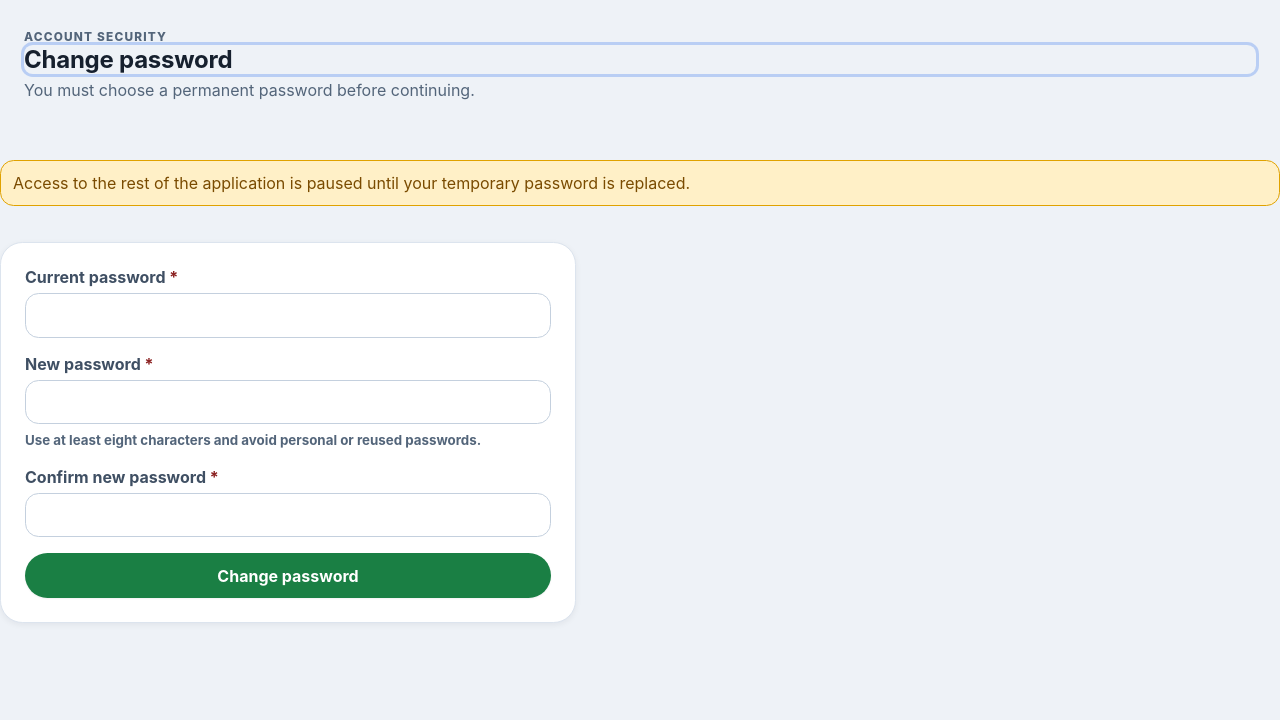
Test case: ChangePasswordPage › changes the signed-in user password and clears the mandatory state
Expected: the text "You must choose a permanent password before continuing." is shown, 24,80 -> 475,100
In the password field labelled "Current password": (288,315) 25,293 -> 551,338, type "temporary"
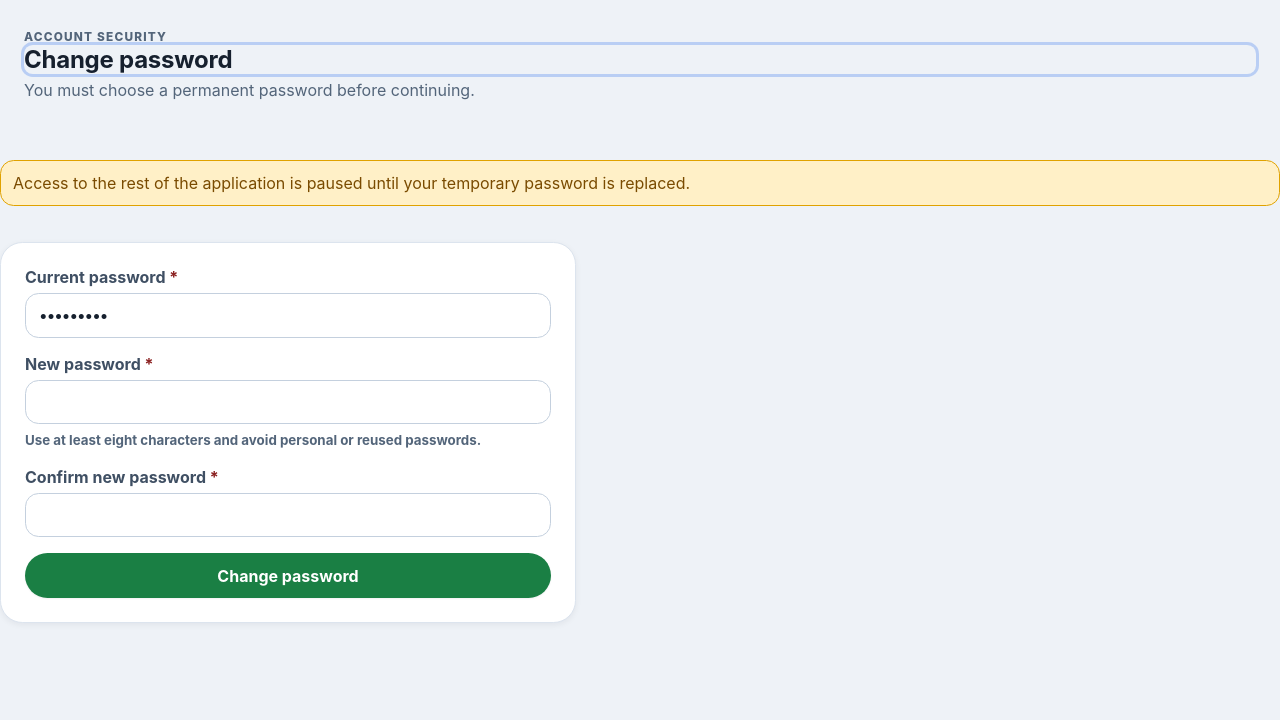
In the password field labelled "New password": (288,402) 25,380 -> 551,424, type "Permanent-Password-42!"
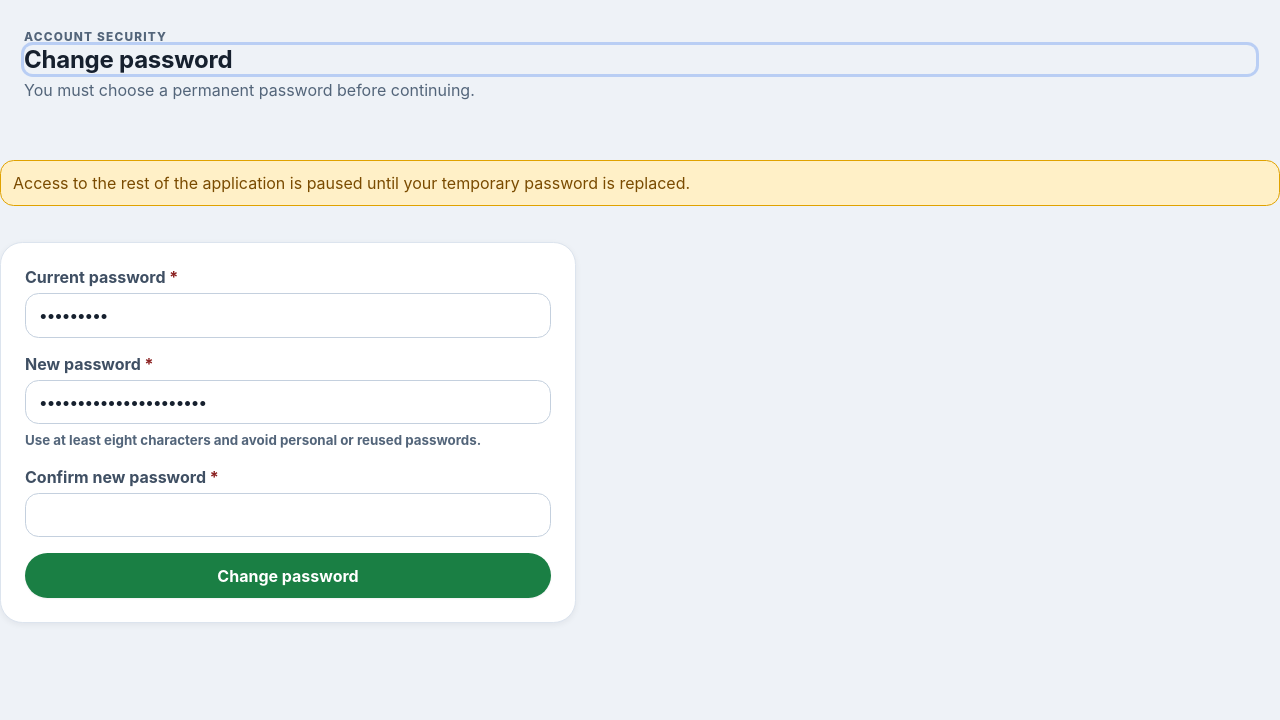
In the password field labelled "Confirm new password": (288,515) 25,493 -> 551,538, type "Permanent-Password-42!"
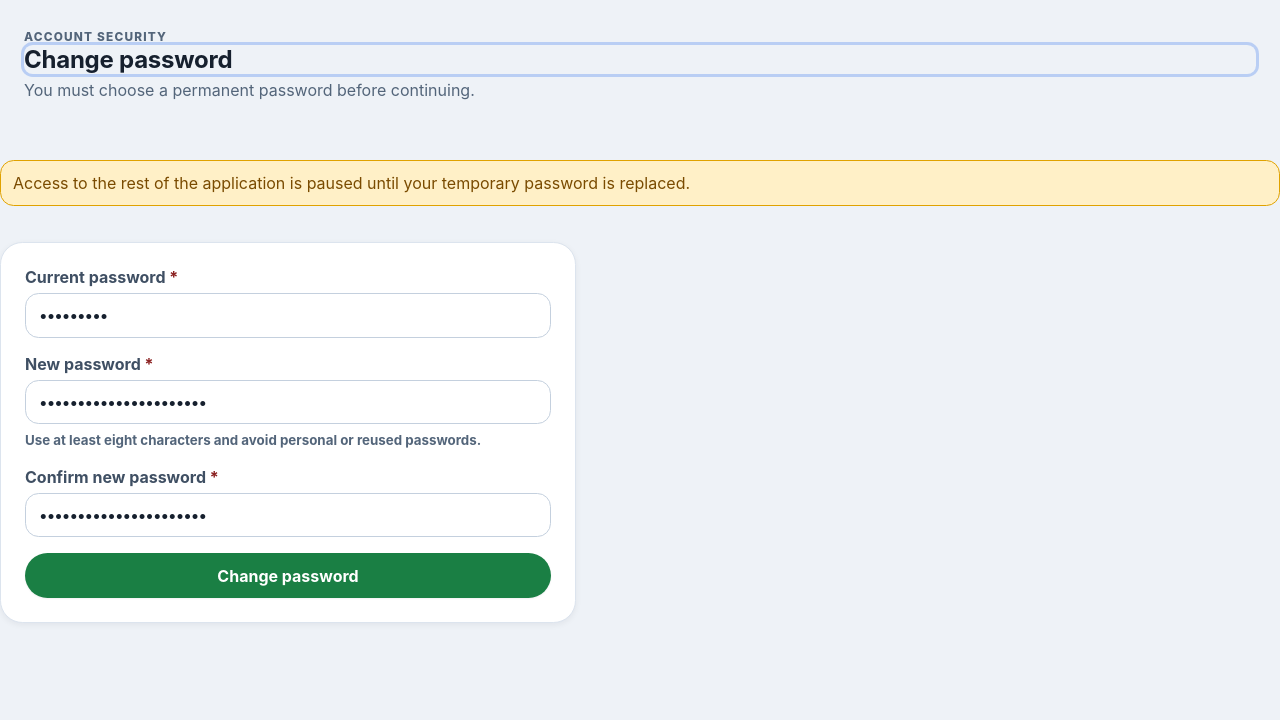
Click the button "Change password": (288,576) 25,554 -> 551,598
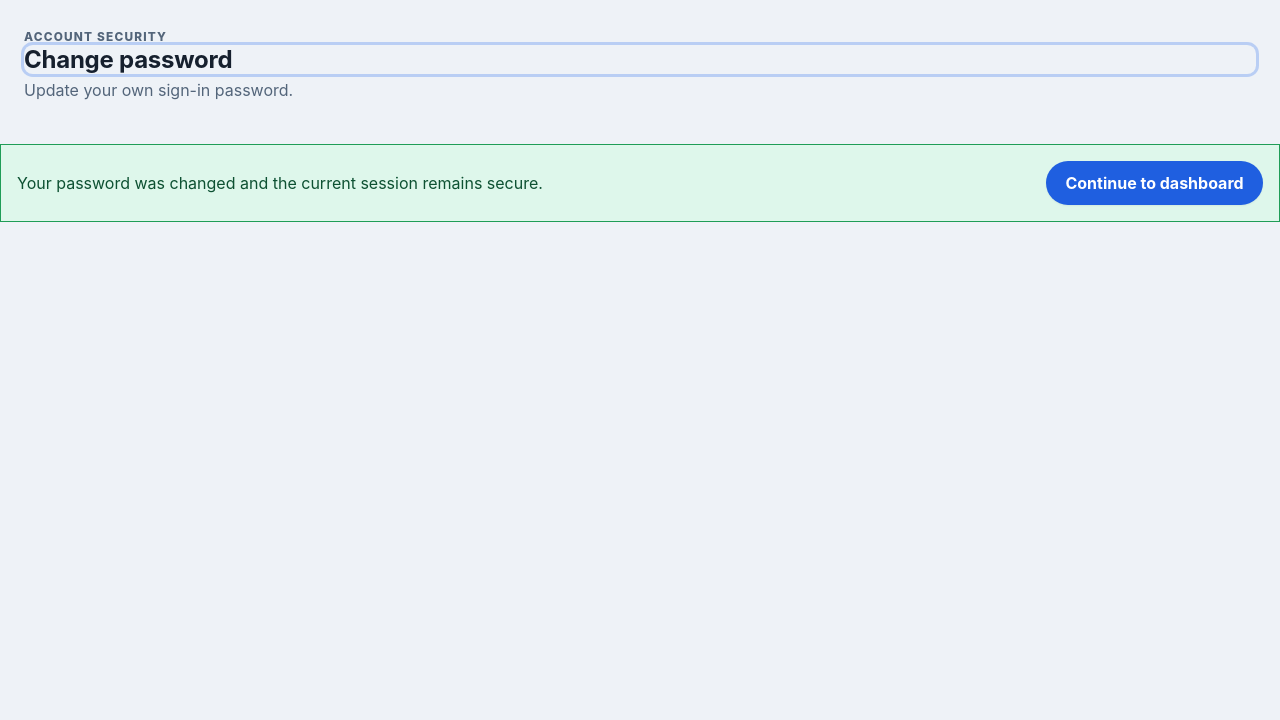
Result: the text "password was changed" is shown at 17,173 -> 543,193
